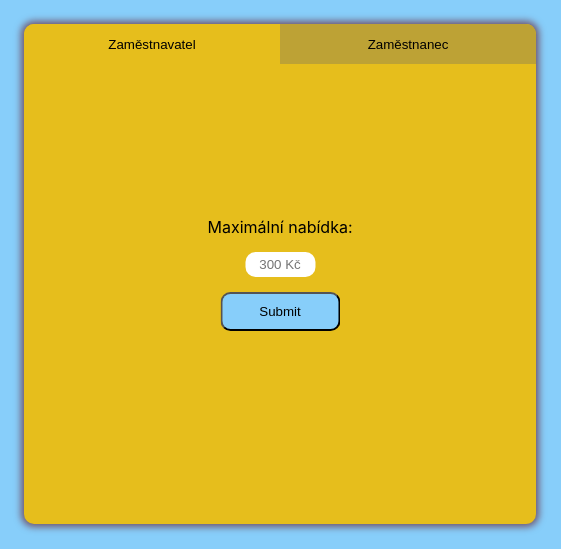
Test: Integration tests › after submit the tab button should be disabled
Type "200" into the number field at (280, 264), box x1=245 y1=252 x2=315 y2=277
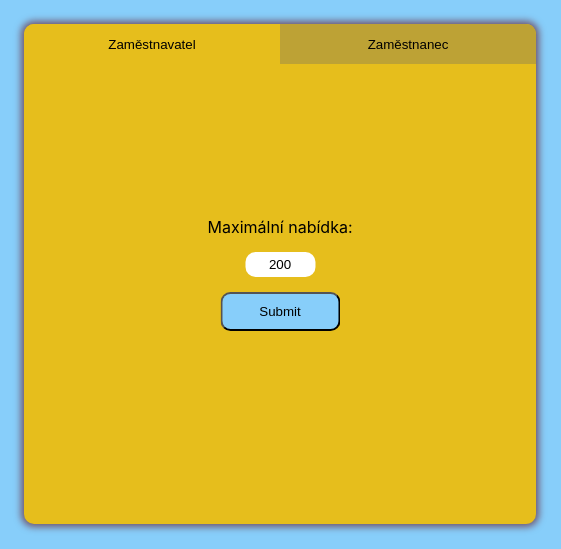
Click the button "Submit" at (280, 312), box x1=220 y1=292 x2=340 y2=331
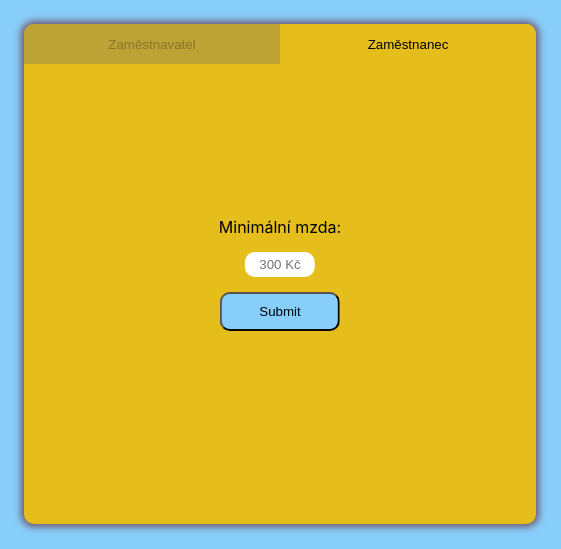
Check: the button "Zaměstnavatel" is disabled, box x1=24 y1=24 x2=280 y2=64
